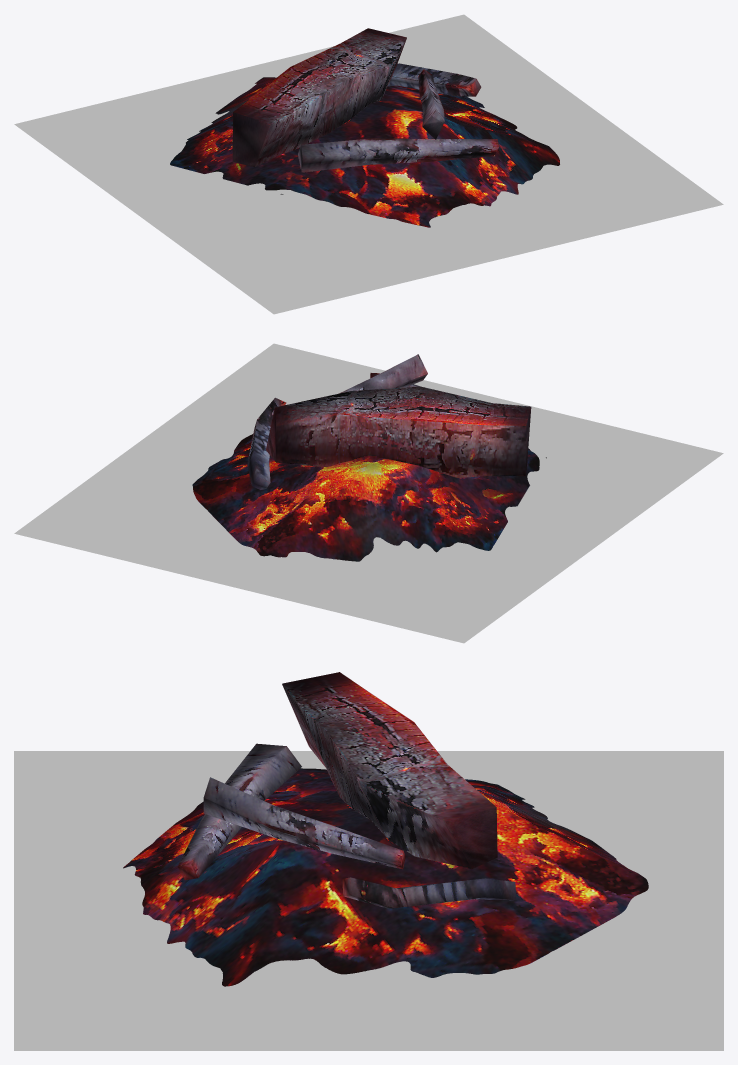
Rendered from Glowwood.fbx.
3 views of the same model, one above another, from view 1: azimuth 30°, elevation 25°; view 2: azimuth 150°, elevation 25°; view 3: azimuth 270°, elevation 25° (orthographic). The views are drawn at different scales.
Visible parts, largest first — view 1: firepoint, campfire; view 2: firepoint, campfire; view 3: firepoint, campfire.
Boxes of the visible parts, x1,y1,x2,y2 form: firepoint: (14,14,723,314); campfire: (170,28,559,227); firepoint: (14,343,723,643); campfire: (192,354,546,561); firepoint: (14,751,723,1050); campfire: (123,672,648,986).
Bounding box in the file's own units: 5.42 × 1.21 × 5.42.
